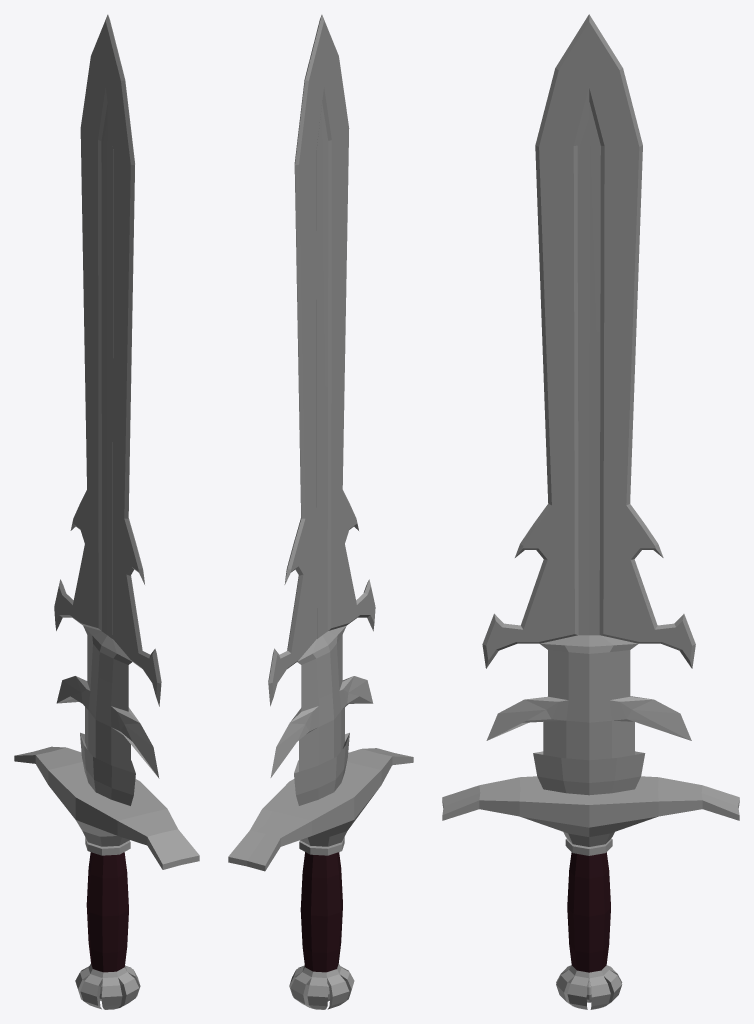
The model's file is DarkSword.fbx.
The picture shows the model from 3 angles, left to right: view 1: azimuth 30°, elevation 25°; view 2: azimuth 150°, elevation 25°; view 3: azimuth 270°, elevation 25°; orthographic projection.
Visible parts, largest first — view 1: Cylinder.026; view 2: Cylinder.026; view 3: Cylinder.026.
Part boxes in pixels (x1,y1,x2,y2): Cylinder.026: (14, 14, 199, 1009); Cylinder.026: (228, 14, 413, 1009); Cylinder.026: (442, 14, 739, 1009).
Size of the model in its own units: 3.83 by 55.95 by 15.23.
